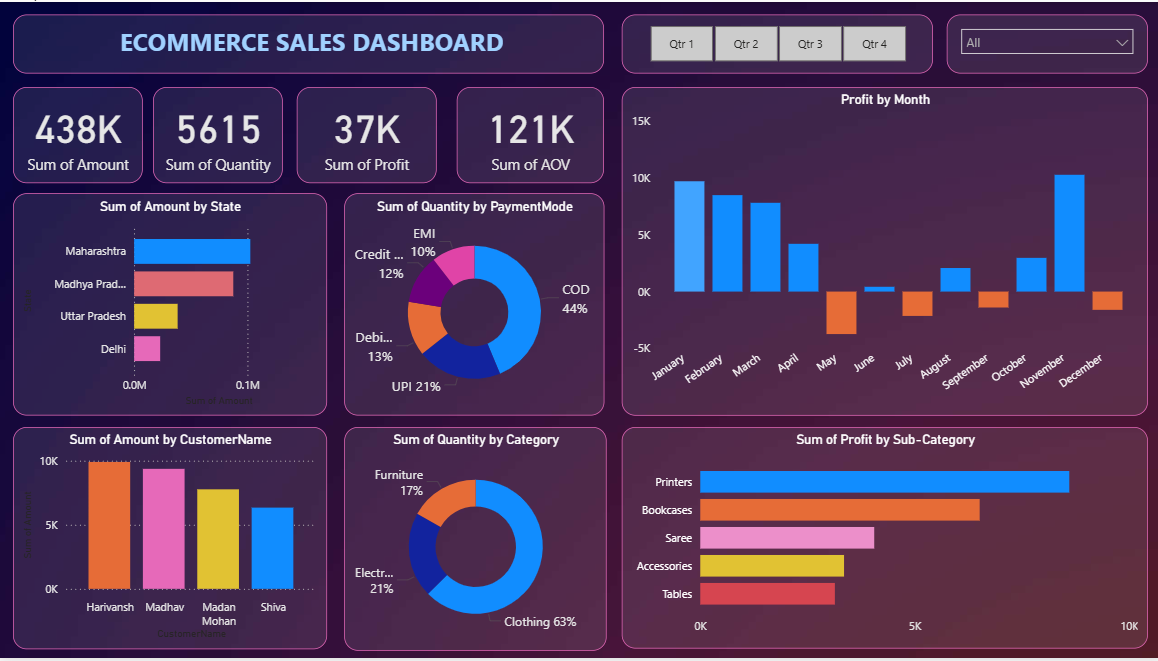

What the dashboard file says about the page in this screenshot:
{"tool":"powerbi","page":{"name":"Page 1","canvas":[1280,720],"ordinal":0},"visuals":[{"type":"textbox","box":[16.5,13.7,649.1,64.5],"z":0},{"type":"columnChart","title":" Profit by Month","fields":{"Y":["Sum(Details.Profit)"],"Category":["Orders.Order Date.Variation.Date Hierarchy.Month"]},"box":[684.7,93.3,577.7,360.9],"z":1000},{"type":"barChart","fields":{"Y":["Sum(Details.Profit)"],"Category":["Details.Sub-Category"]},"box":[684.7,466.6,577.7,242.9],"z":2000},{"type":"donutChart","fields":{"Y":["Sum(Details.Quantity)"],"Category":["Details.Category"]},"box":[380.1,466.6,288.2,245.6],"z":3000},{"type":"donutChart","fields":{"Category":["Details.PaymentMode"],"Y":["Sum(Details.Quantity)"]},"box":[380.1,209.9,285.4,244.3],"z":4000},{"type":"barChart","fields":{"Category":["Orders.State"],"Y":["Sum(Details.Amount)"]},"box":[16.5,209.9,344.4,244.3],"z":5000},{"type":"clusteredColumnChart","fields":{"Category":["Orders.CustomerName"],"Y":["Sum(Details.Amount)"]},"box":[16.5,466.6,344.4,244.3],"z":6000},{"type":"card","fields":{"Values":["Sum(Details.Amount)"]},"box":[16.5,93.3,142.7,105.7],"z":7000},{"type":"card","fields":{"Values":["Sum(Details.Quantity)"]},"box":[170.2,93.3,142.7,105.7],"z":8000},{"type":"card","fields":{"Values":["Sum(Details.Profit)"]},"box":[328,93.3,153.7,105.7],"z":9000},{"type":"card","fields":{"Values":["Sum(Details.AOV)"]},"box":[503.6,93.3,161.9,105.7],"z":10000},{"type":"slicer","fields":{"Values":["Orders.Order Date.Variation.Date Hierarchy.Quarter"]},"box":[684.7,13.7,341.7,64.5],"z":11000},{"type":"slicer","fields":{"Values":["Orders.State"]},"box":[1041.5,13.7,220.9,64.5],"z":12000}]}

Visuals, with their boxes in screenshot pixels (x1, y1, x2, y2), scaled from the page's 1280x720 canvas onto the 1158x661 screenshot:
textbox: x1=15 y1=13 x2=602 y2=72
" Profit by Month" columnChart: x1=619 y1=86 x2=1142 y2=417
barChart - Sum(Details.Profit) x Details.Sub-Category: x1=619 y1=428 x2=1142 y2=651
donutChart - Sum(Details.Quantity) x Details.Category: x1=344 y1=428 x2=605 y2=654
donutChart - Details.PaymentMode x Sum(Details.Quantity): x1=344 y1=193 x2=602 y2=417
barChart - Orders.State x Sum(Details.Amount): x1=15 y1=193 x2=327 y2=417
clusteredColumnChart - Orders.CustomerName x Sum(Details.Amount): x1=15 y1=428 x2=327 y2=653
card - Sum(Details.Amount): x1=15 y1=86 x2=144 y2=183
card - Sum(Details.Quantity): x1=154 y1=86 x2=283 y2=183
card - Sum(Details.Profit): x1=297 y1=86 x2=436 y2=183
card - Sum(Details.AOV): x1=456 y1=86 x2=602 y2=183
slicer - Orders.Order Date.Variation.Date Hierarchy.Quarter: x1=619 y1=13 x2=929 y2=72
slicer - Orders.State: x1=942 y1=13 x2=1142 y2=72
